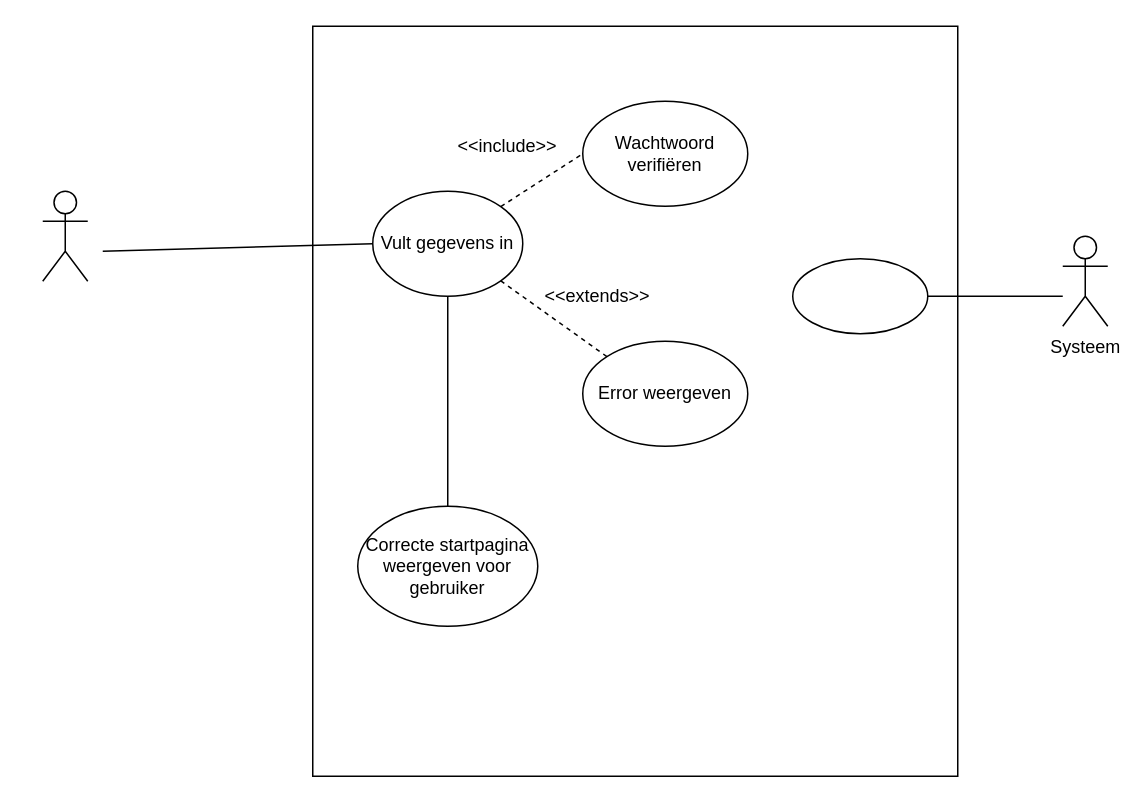
The diagram is 1146 pixels wide and 803 high, and some of its shapes have lost their labels. Each missing label, with the centre of its shape:
Checkt inlog gegevens: (859,295)
Gebruiker: (64,235)
